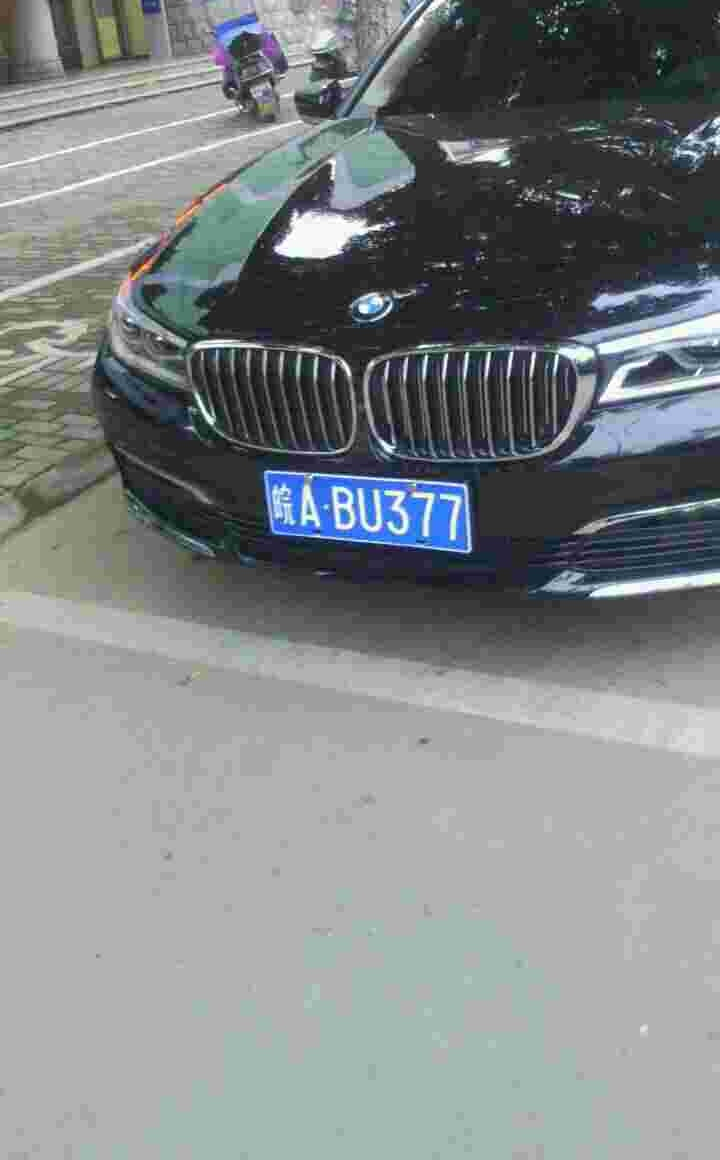license_plate: (265, 468, 469, 556)
